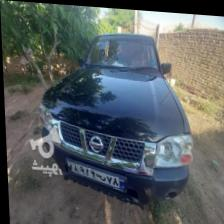plate: (63, 156, 127, 194)
